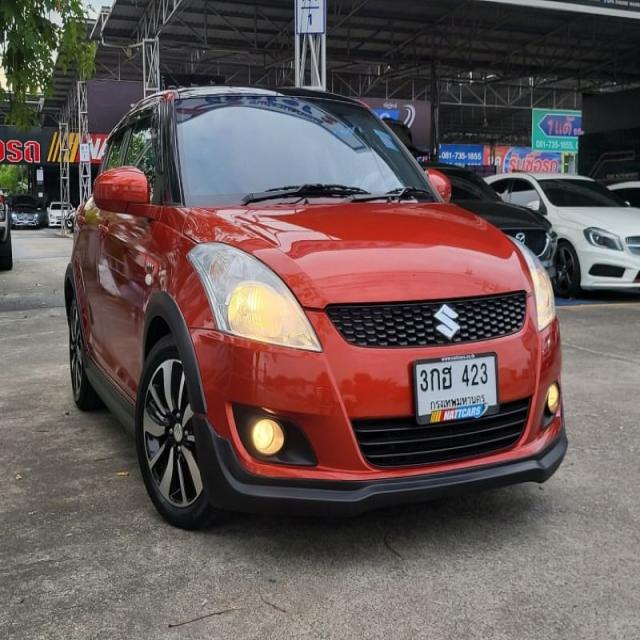license_plate: (411, 350, 501, 429)
